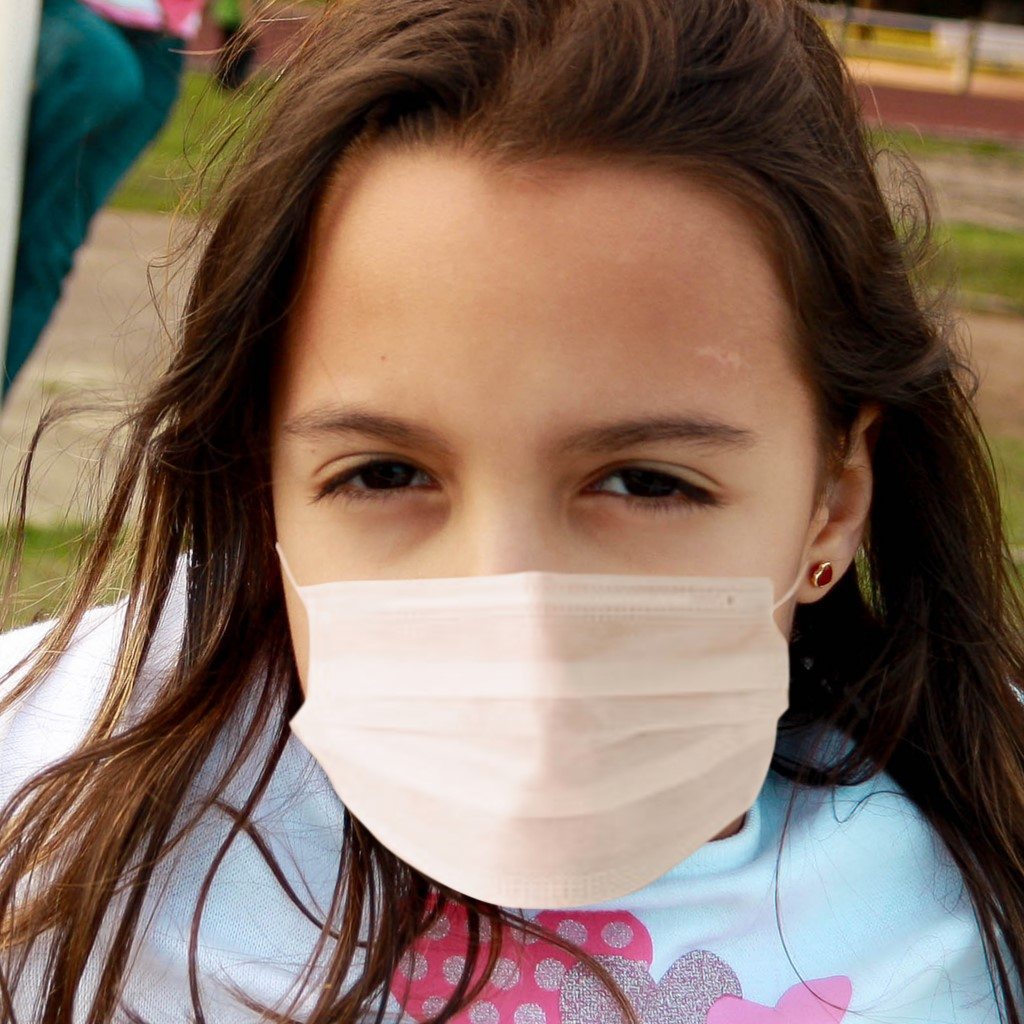con_mascara: (257, 120, 819, 895)
